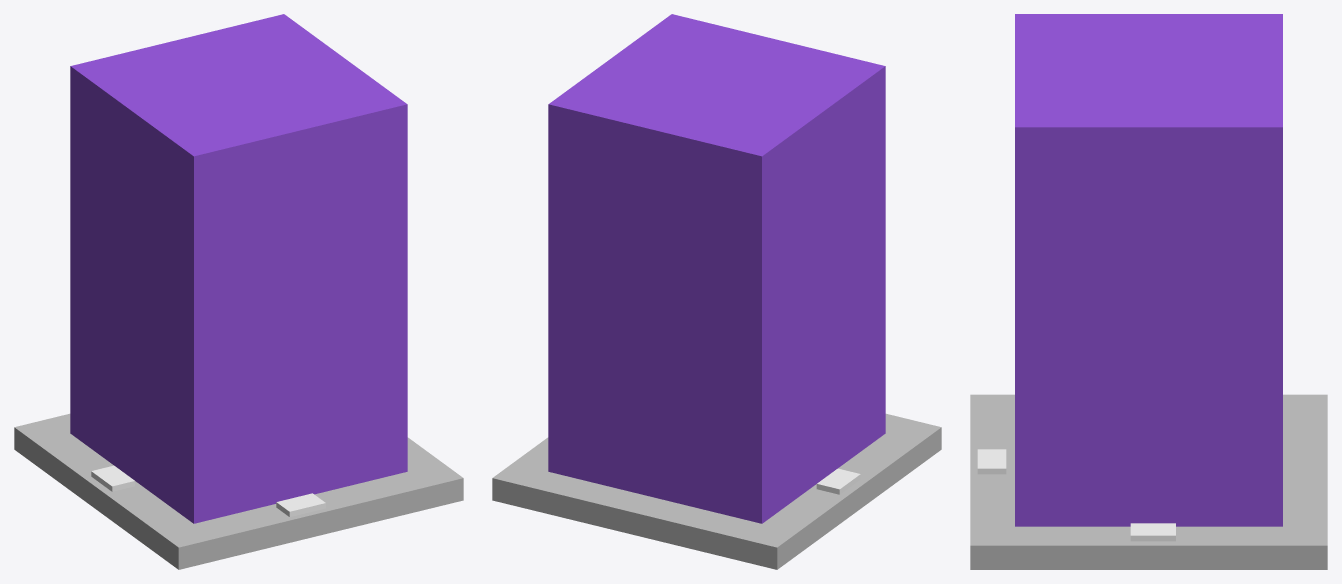
Rendered from building3(3).fbx.
3 renders of one model, left to right at view 1: azimuth 30°, elevation 25°; view 2: azimuth 150°, elevation 25°; view 3: azimuth 270°, elevation 25°, orthographic. The views are drawn at different scales.
Parts seen in each view (by area): view 1: Empty_Tile.012, Empty_Tile.011, Empty_Tile.010, Empty_Tile.013; view 2: Empty_Tile.012, Empty_Tile.011, Empty_Tile.013; view 3: Empty_Tile.012, Empty_Tile.011, Empty_Tile.015, Empty_Tile.010.
Part boxes in pixels (x1,y1,x2,y2): Empty_Tile.012: (70,14,407,523); Empty_Tile.011: (14,413,463,569); Empty_Tile.010: (276,493,325,516); Empty_Tile.013: (91,465,134,491); Empty_Tile.012: (548,14,885,523); Empty_Tile.011: (492,413,941,569); Empty_Tile.013: (816,468,860,494); Empty_Tile.012: (1015,14,1282,526); Empty_Tile.011: (970,394,1327,569); Empty_Tile.015: (1130,523,1175,541); Empty_Tile.010: (977,449,1006,474).
Size of the model in its own units: 800 by 1046 by 800.
